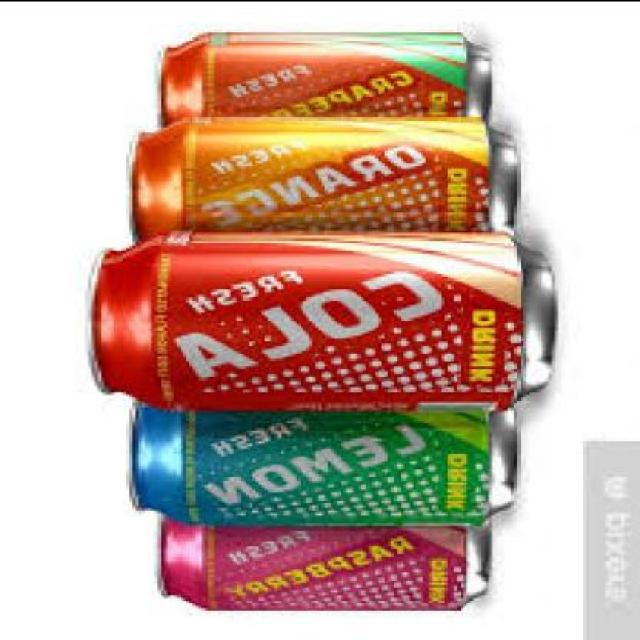metal: (92, 226, 556, 406), (126, 114, 517, 260), (123, 398, 517, 520), (151, 512, 489, 608), (152, 30, 486, 119)
